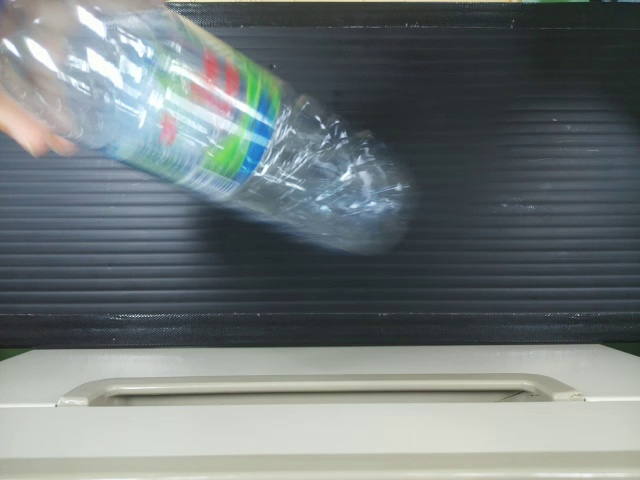bottle: (0, 0, 400, 255)
